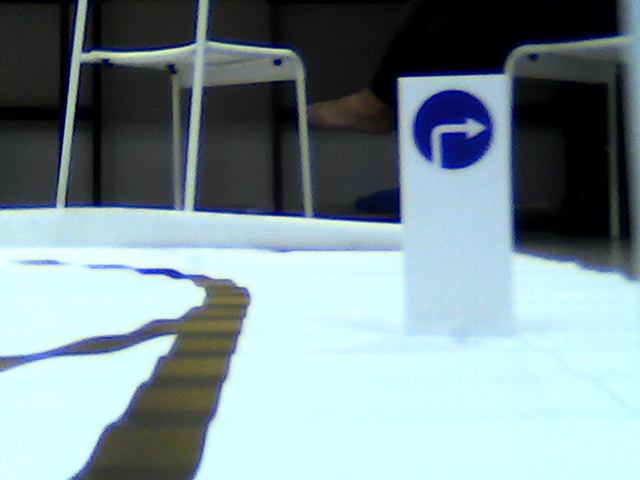Right: (414, 84, 498, 168)
